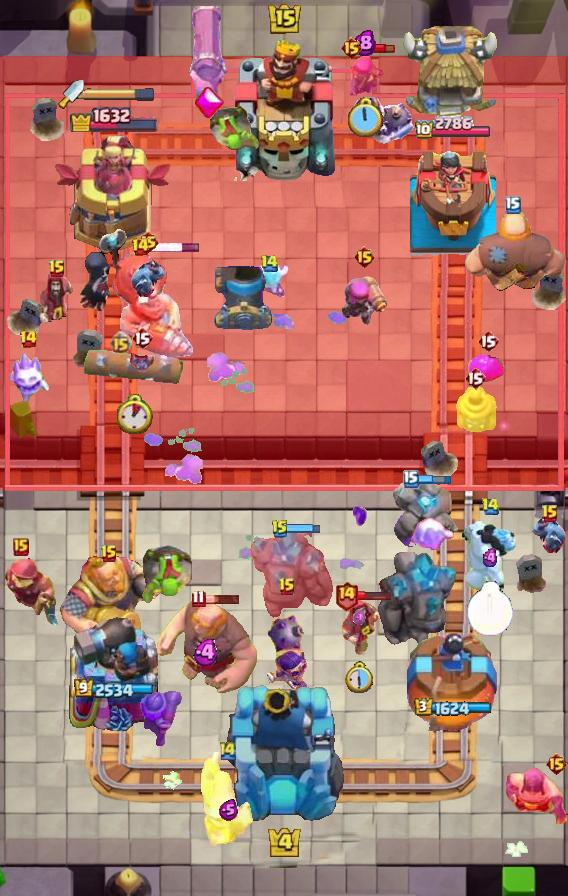archer-evolution: (344, 47, 384, 101)
bar: (148, 242, 201, 253), (204, 593, 241, 605), (357, 589, 392, 601), (360, 42, 395, 54), (286, 523, 322, 534), (417, 474, 452, 485)
bar-level: (334, 580, 359, 611), (545, 752, 568, 776), (353, 245, 376, 269), (137, 230, 160, 254), (340, 36, 363, 60), (109, 331, 132, 354), (464, 366, 486, 390), (477, 329, 499, 353), (131, 326, 153, 350), (218, 740, 238, 761), (19, 329, 38, 349), (131, 237, 150, 257), (481, 497, 500, 516), (260, 254, 279, 273), (278, 577, 296, 597), (100, 544, 118, 564), (271, 519, 289, 539), (541, 504, 559, 524), (48, 259, 66, 279), (13, 538, 29, 556), (403, 470, 419, 488), (505, 196, 521, 214), (191, 589, 206, 608)
bat: (127, 348, 157, 374)
bomber-evolution: (263, 598, 311, 694), (352, 93, 414, 145)
cannoneer-tower: (68, 611, 160, 731)
clock: (466, 581, 514, 637), (346, 97, 383, 140), (117, 394, 153, 434), (345, 661, 375, 694)
dagger-duchess-tower: (52, 132, 176, 256)
dagger-duchess-tower-bar: (84, 87, 156, 101)
elixir: (193, 639, 221, 666), (353, 29, 376, 56), (219, 799, 238, 821), (481, 548, 500, 568), (353, 609, 367, 626)
elixir-golem-small: (468, 355, 508, 383)
evolution-symbol: (194, 86, 226, 120)
executioner: (504, 768, 568, 828)
firecracker: (340, 274, 389, 326)
goblin-ball: (139, 544, 193, 606), (209, 105, 263, 153)
golemite: (390, 479, 460, 547)
ice-spirit: (247, 261, 291, 297)
ice-spirit-evolution: (6, 350, 50, 404), (406, 518, 456, 556)
king-tower: (221, 682, 347, 826), (228, 35, 340, 181)
knight: (200, 752, 256, 849)
minion: (530, 515, 568, 555), (129, 259, 167, 299)
mortar: (214, 266, 274, 330)
musketeer: (137, 689, 183, 749)
night-witch: (78, 228, 128, 316)
queen-tower: (410, 145, 496, 256), (407, 633, 499, 731)
the-log: (82, 348, 188, 386)
tower-bar: (69, 104, 160, 132), (414, 116, 492, 141), (74, 679, 154, 700), (414, 697, 492, 717)
wizard: (36, 268, 78, 328), (339, 598, 381, 656)
zappy: (452, 387, 498, 433)
